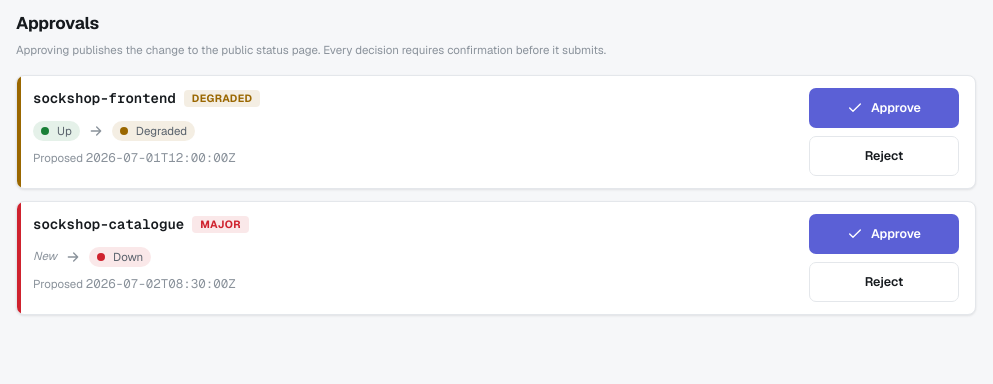
Test: ApprovalsPage › shows an inline "already resolved" message and refreshes the list on a 409 lost race (AC2)
Click the button "Approve" in the row of "sockshop-frontend" at [884, 108], box [809,88,959,128]
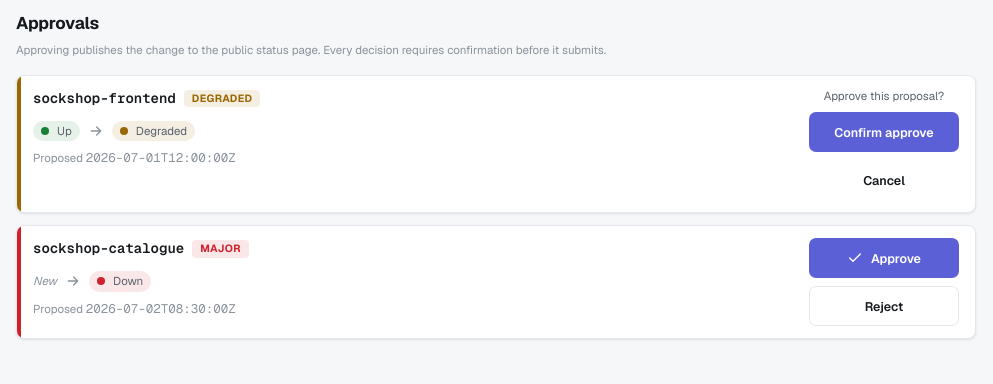
Click the button "Confirm approve" at [884, 132], box [809,112,959,152]
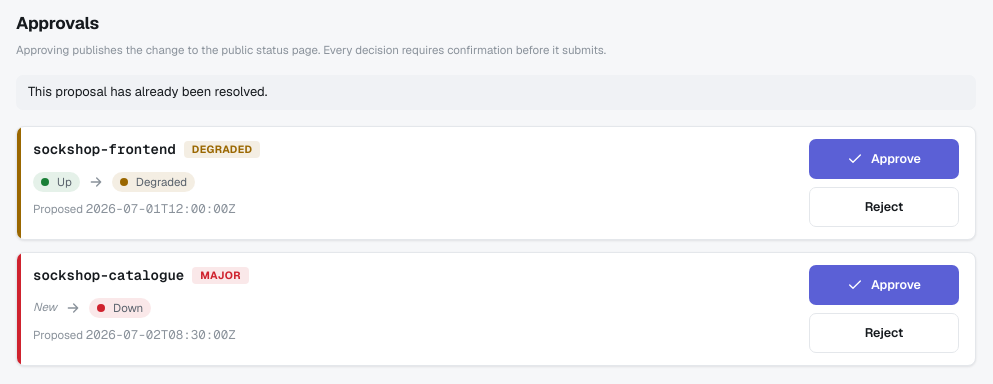
Result: the text "This proposal has already been resolved." is shown at [16,75,976,110]
Result: the message shows "already been resolved" at [28,83,267,100]
